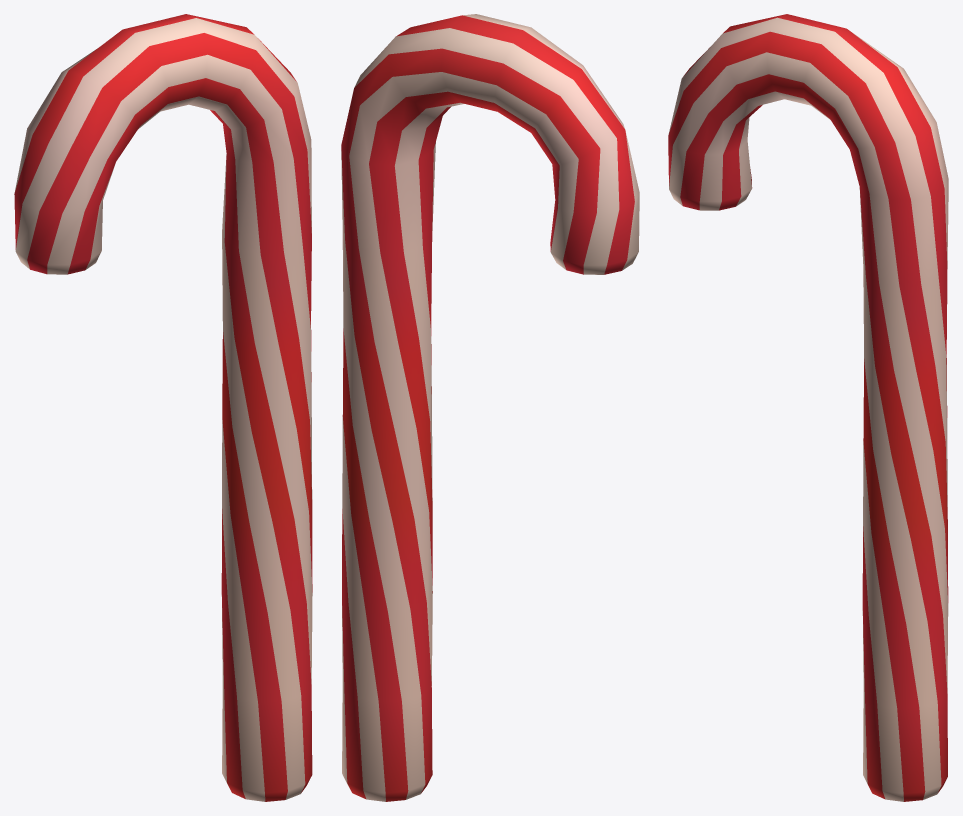
The model's file is candy_hard_29.fbx.
3 renders of one model, left to right at view 1: azimuth 30°, elevation 25°; view 2: azimuth 150°, elevation 25°; view 3: azimuth 330°, elevation 25°, orthographic. The views are drawn at different scales.
Parts seen in each view (by area): view 1: c_h_29; view 2: c_h_29; view 3: c_h_29.
Part boxes in pixels (bbox=[...]): c_h_29: bbox=[14, 14, 312, 801]; c_h_29: bbox=[341, 14, 639, 801]; c_h_29: bbox=[668, 14, 948, 801].
Bounding box in the file's own units: 154 × 408 × 46.13.
